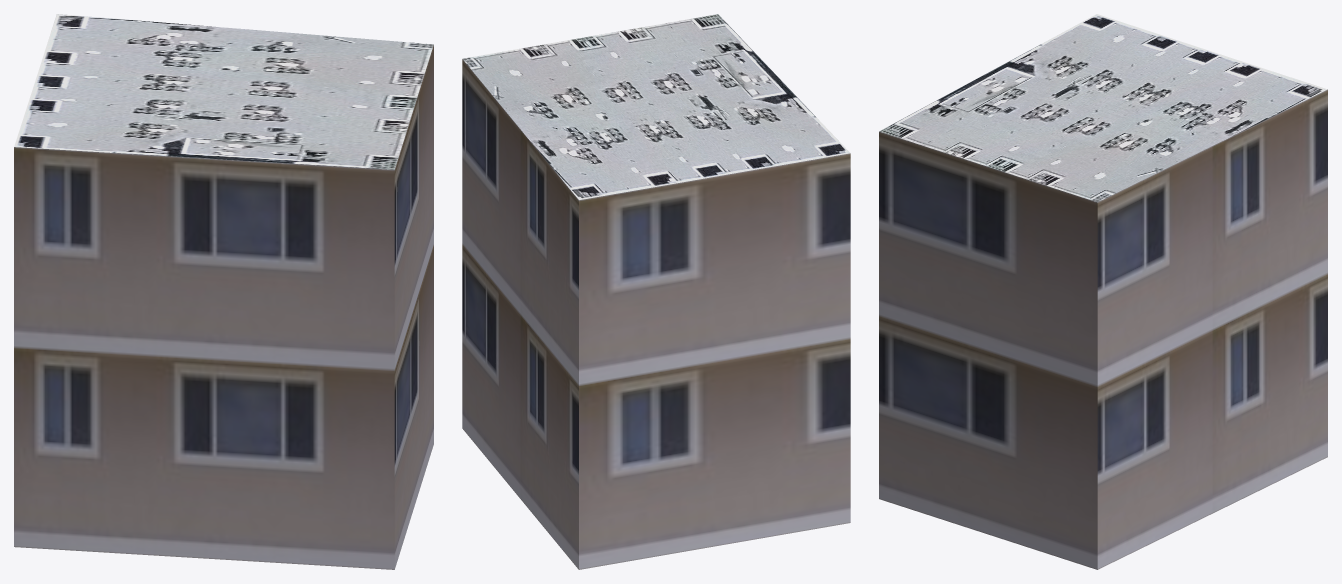
Rendered from ResTex__975.fbx.
The picture shows the model from 3 angles, left to right: view 1: azimuth 30°, elevation 25°; view 2: azimuth 150°, elevation 25°; view 3: azimuth 270°, elevation 25°; orthographic projection. The views are drawn at different scales.
Visible parts, largest first — view 1: CityEngineMaterial_21_m, CityEngineMaterial_8_m; view 2: CityEngineMaterial_21_m, CityEngineMaterial_8_m; view 3: CityEngineMaterial_21_m, CityEngineMaterial_8_m.
Part boxes in pixels (x1,y1,x2,y2): CityEngineMaterial_21_m: (14,45,433,569); CityEngineMaterial_8_m: (14,14,433,169); CityEngineMaterial_21_m: (462,59,850,569); CityEngineMaterial_8_m: (462,14,850,200); CityEngineMaterial_21_m: (879,89,1327,569); CityEngineMaterial_8_m: (879,14,1327,202).
Size of the model in its own units: 6.59 by 6 by 6.64.
Materials: 2 (2 with a texture image).
